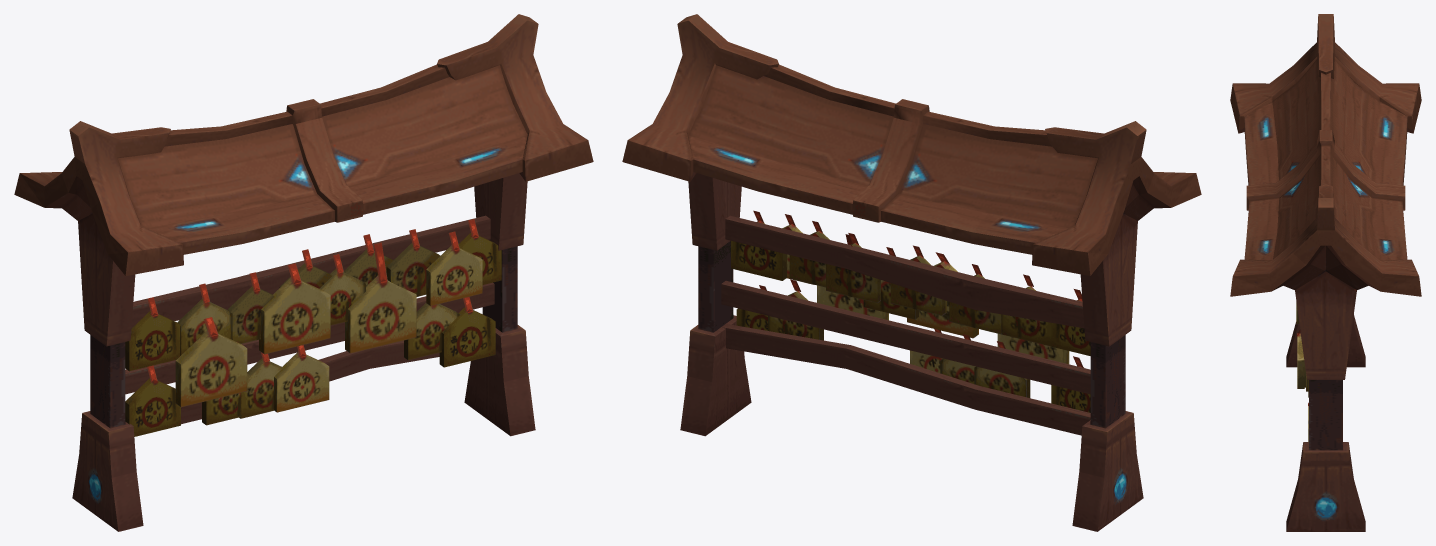
File: shrine_wj001_07.FBX
3 views of the same model, side by side, from view 1: azimuth 30°, elevation 25°; view 2: azimuth 150°, elevation 25°; view 3: azimuth 270°, elevation 25° (orthographic). The views are drawn at different scales.
Visible parts, largest first — view 1: shrine_wj001_07; view 2: shrine_wj001_07; view 3: shrine_wj001_07.
Part boxes in pixels (x1=…): shrine_wj001_07: x1=14, y1=14, x2=593, y2=531; shrine_wj001_07: x1=622, y1=14, x2=1201, y2=531; shrine_wj001_07: x1=1230, y1=14, x2=1421, y2=531.
Size of the model in its own units: 234 by 188 by 96.44.
Materials: 1 (1 with a texture image).
